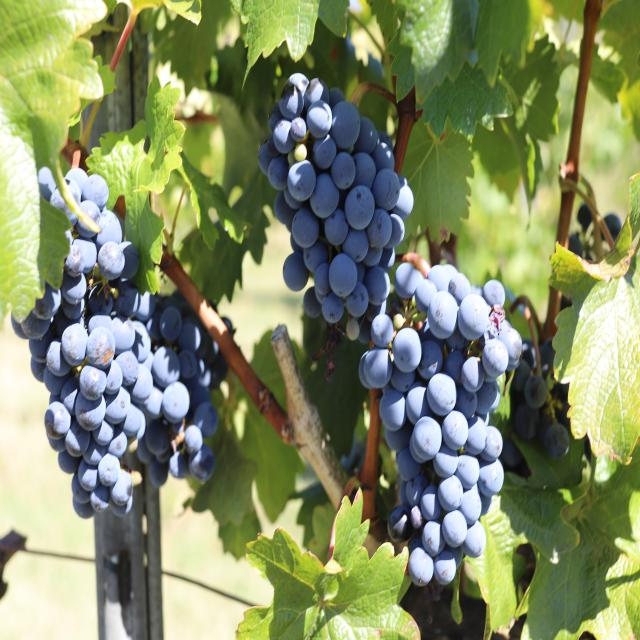grapes: (258, 73, 523, 585), (11, 167, 227, 518), (360, 263, 522, 586), (258, 72, 414, 325), (511, 339, 569, 458)
stem: (350, 82, 396, 105), (396, 253, 431, 278)
